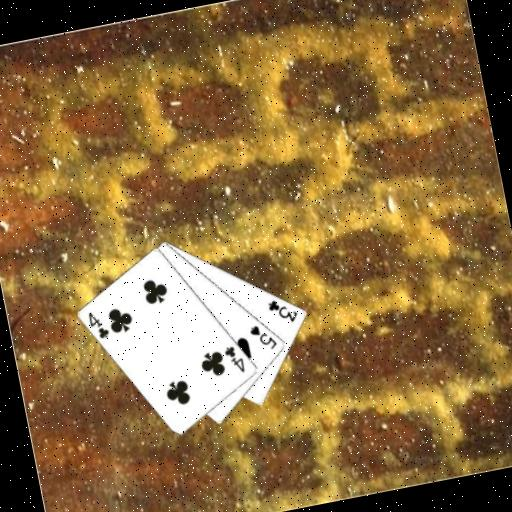3C: (264, 293, 301, 329)
4C: (84, 307, 112, 343), (221, 341, 248, 377)
5S: (246, 319, 280, 355)
